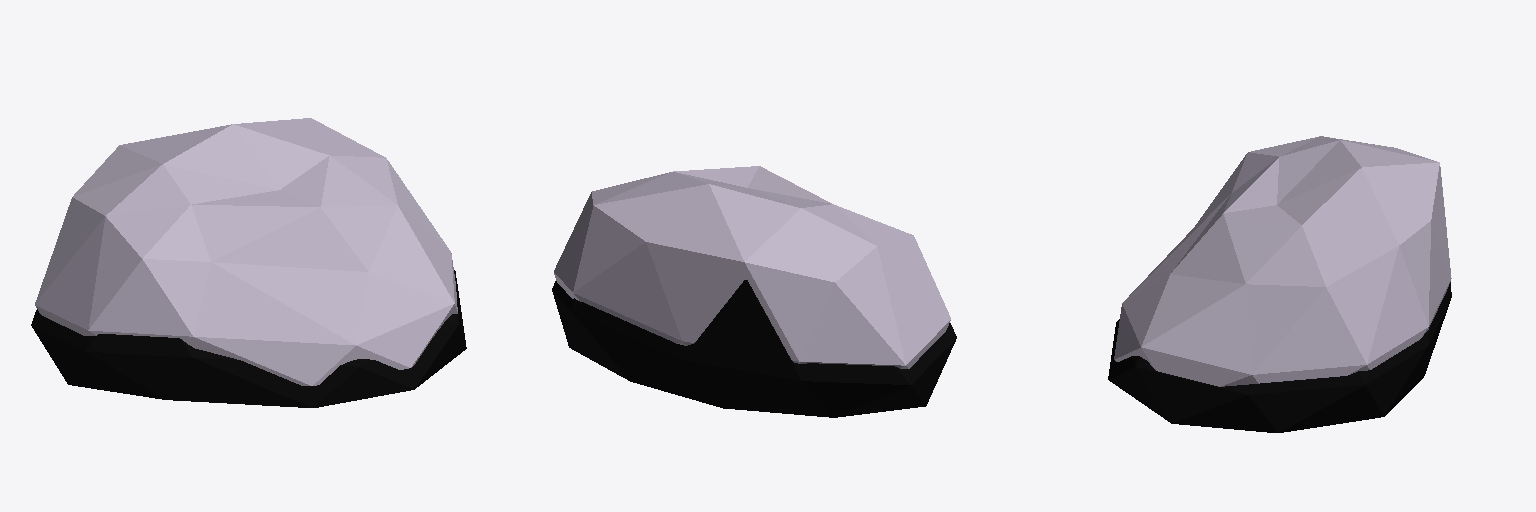
The model's file is Rock02.obj.
3 renders of one model, left to right at view 1: azimuth 30°, elevation 25°; view 2: azimuth 150°, elevation 25°; view 3: azimuth 270°, elevation 25°, orthographic.
Visible parts, largest first — view 1: CaillouHiver2_Icosphere.007, Icosphere.004; view 2: CaillouHiver2_Icosphere.007, Icosphere.004; view 3: CaillouHiver2_Icosphere.007, Icosphere.004.
Boxes of the visible parts, x1=… form: CaillouHiver2_Icosphere.007: x1=35, y1=118, x2=457, y2=385; Icosphere.004: x1=31, y1=270, x2=466, y2=407; CaillouHiver2_Icosphere.007: x1=554, y1=166, x2=950, y2=368; Icosphere.004: x1=552, y1=280, x2=956, y2=417; CaillouHiver2_Icosphere.007: x1=1114, y1=136, x2=1451, y2=386; Icosphere.004: x1=1108, y1=282, x2=1451, y2=432.
Size of the model in its own units: 0.6133 by 0.3105 by 0.4964.